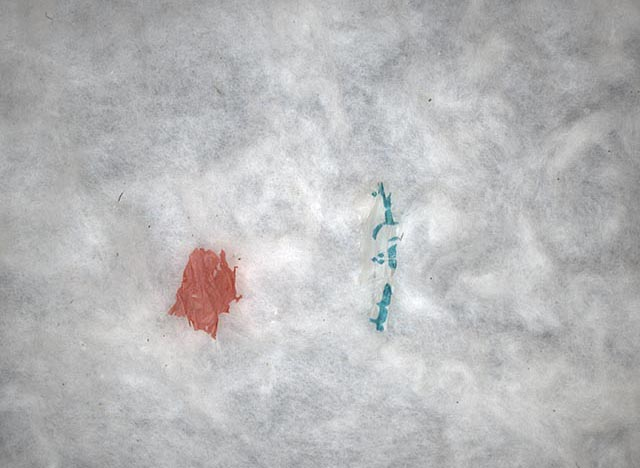plastic film: (168, 246, 245, 341), (362, 182, 399, 336)
